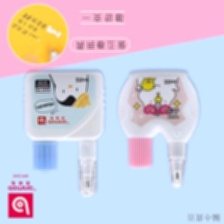correction_fluid: (22, 69, 106, 199), (115, 68, 200, 190)
